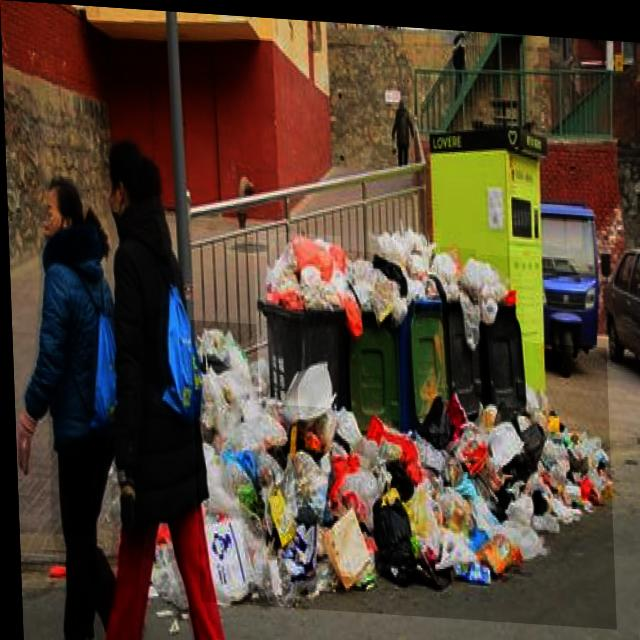garbage: (188, 318, 612, 621)
overflow: (251, 227, 344, 404), (341, 245, 407, 428), (390, 220, 446, 428), (477, 248, 524, 402), (438, 241, 479, 409)
